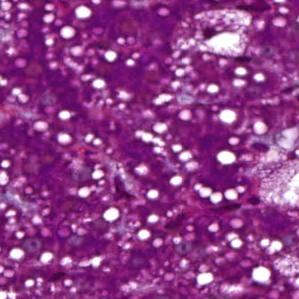ballooning: (172, 8, 253, 62), (253, 128, 296, 213)
